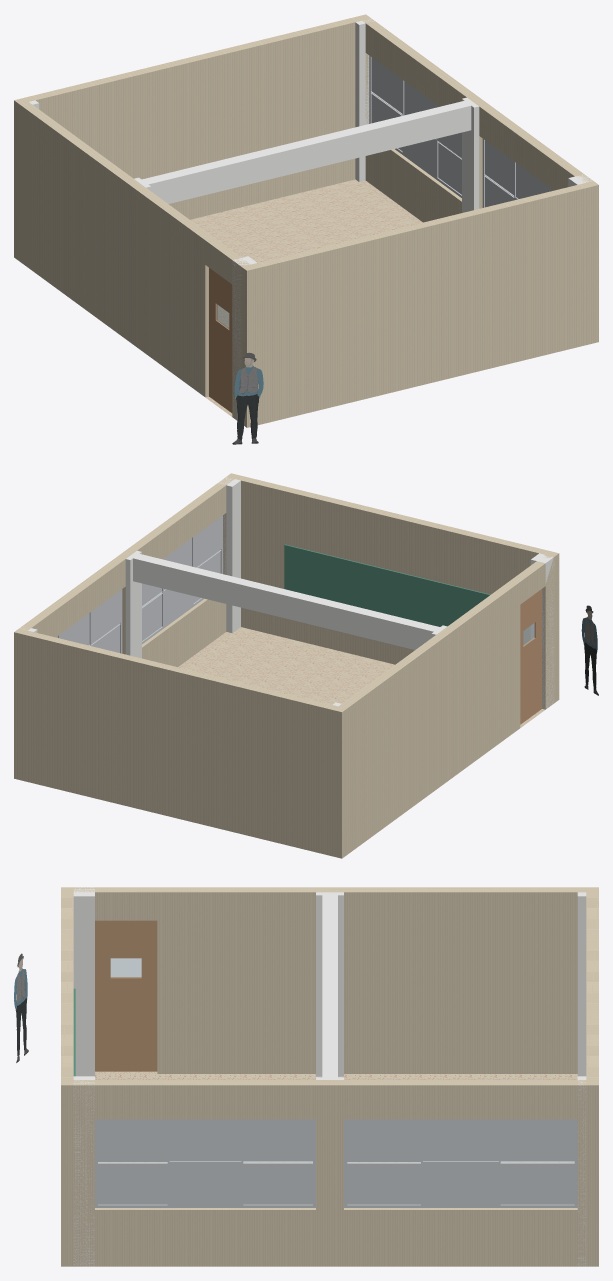
The model's file is salon-clases.glb.
The picture shows the model from 3 angles, top to bottom: view 1: azimuth 30°, elevation 25°; view 2: azimuth 150°, elevation 25°; view 3: azimuth 270°, elevation 25°; orthographic projection. The views are drawn at different scales.
Visible parts, largest first — view 1: Geom3D (×13); view 2: Geom3D (×13); view 3: Geom3D (×16).
Boxes of the visible parts, x1,y1,x2,y2 form: Geom3D (×13): [14, 14, 598, 439]; Geom3D (×13): [14, 473, 559, 858]; Geom3D (×16): [61, 887, 598, 1266].
Size of the model in its own units: 8.11 by 3.2 by 9.35.
Materials: 27 (6 with a texture image).
